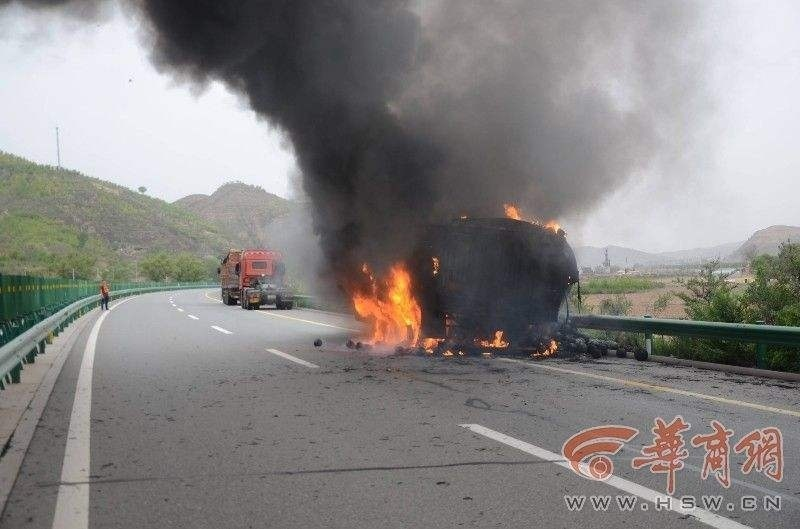fire: (348, 258, 432, 352), (500, 201, 562, 233)
